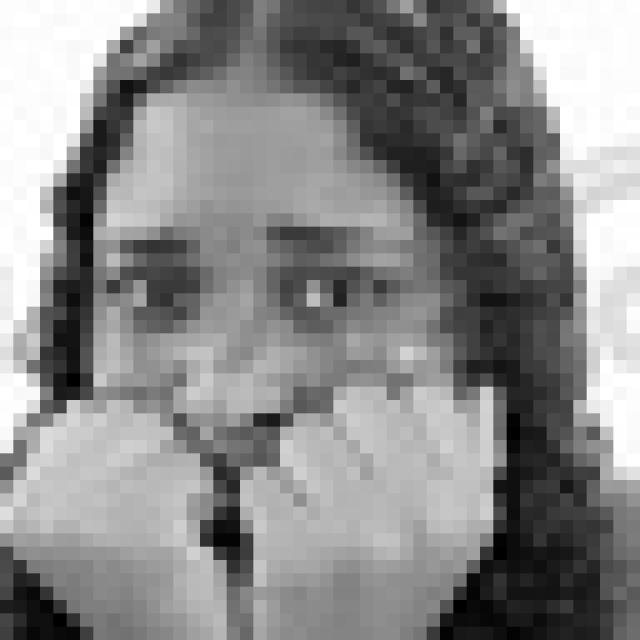fear: (97, 213, 429, 564)
